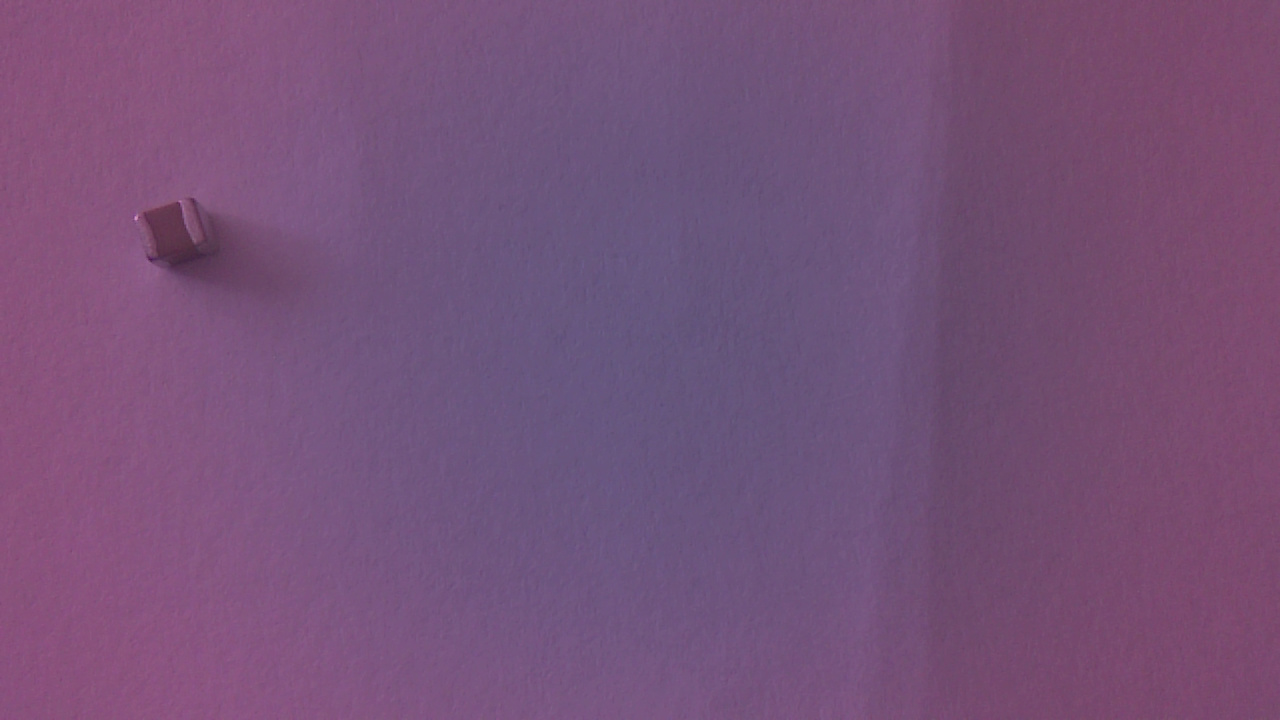Condensator: (133, 197, 229, 276)
